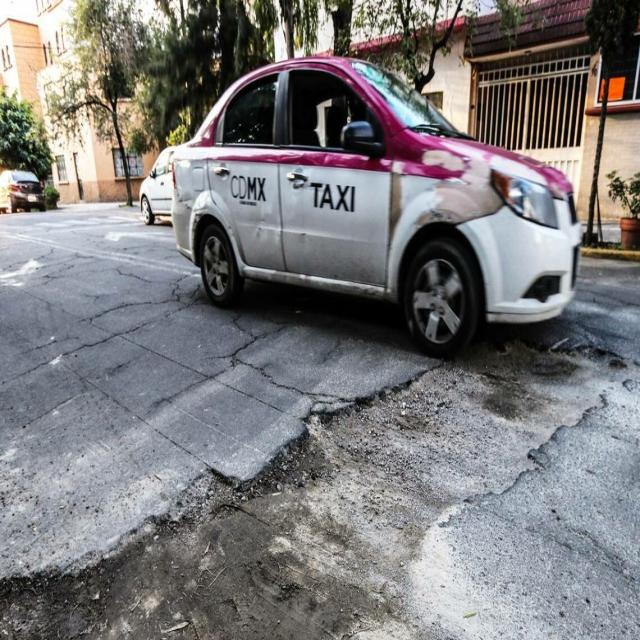Pothole: (185, 337, 640, 630)
